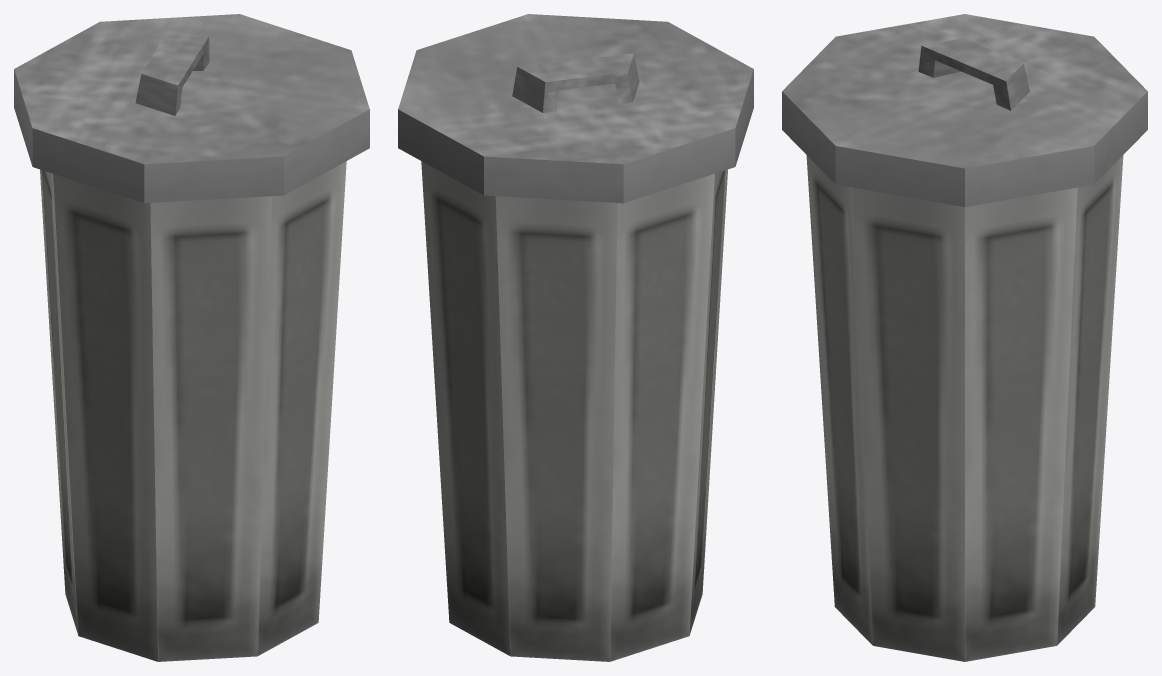
File: GrayTrashcan.fbx
The picture shows the model from 3 angles, left to right: view 1: azimuth 30°, elevation 25°; view 2: azimuth 150°, elevation 25°; view 3: azimuth 270°, elevation 25°; orthographic projection.
Visible parts, largest first — view 1: Maya_File_Assets:TexturedAssetsCurrent:trashCan; view 2: Maya_File_Assets:TexturedAssetsCurrent:trashCan; view 3: Maya_File_Assets:TexturedAssetsCurrent:trashCan.
Boxes of the visible parts, <box> form: Maya_File_Assets:TexturedAssetsCurrent:trashCan: <box>14,14,369,661</box>; Maya_File_Assets:TexturedAssetsCurrent:trashCan: <box>398,14,753,661</box>; Maya_File_Assets:TexturedAssetsCurrent:trashCan: <box>782,14,1147,661</box>.
Bounding box in the file's own units: 0.5794 × 0.9507 × 0.5794.
